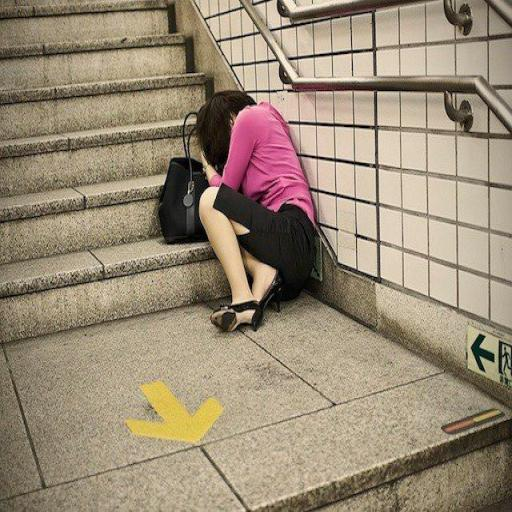door: (159, 113, 208, 243)
laptop: (196, 90, 315, 330)
sofa: (0, 0, 227, 341)
